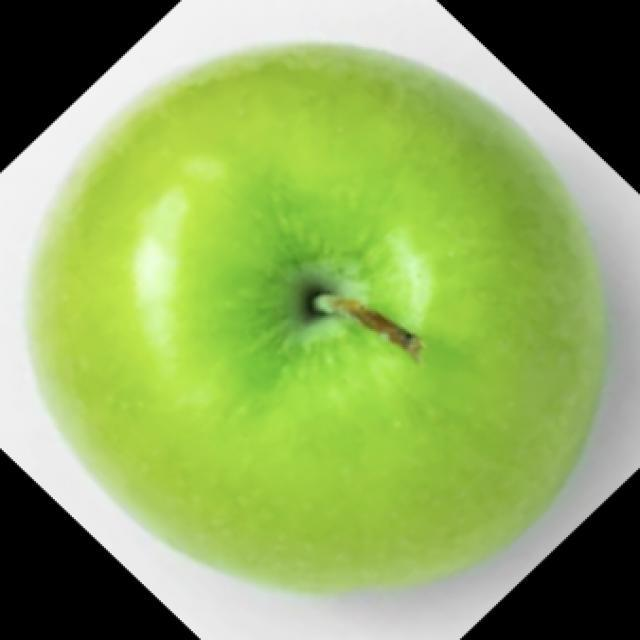Fresh Apple: (28, 40, 612, 597)
